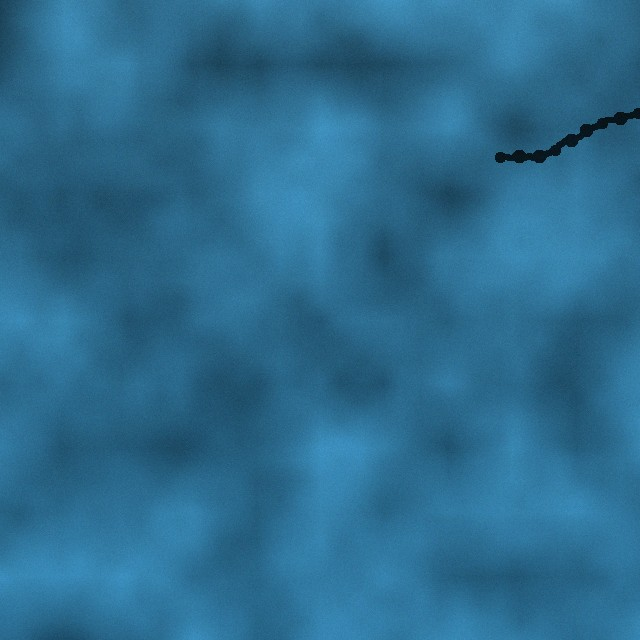crack: (494, 106, 639, 163)
